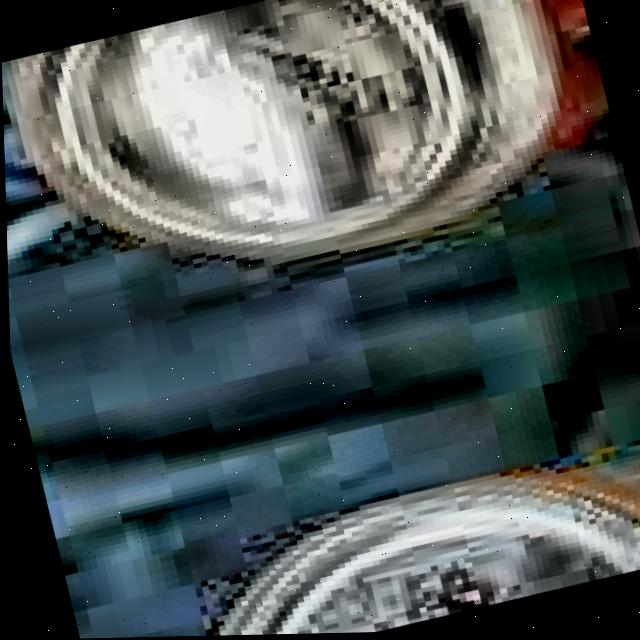metal: (0, 0, 631, 331), (121, 417, 640, 638)
